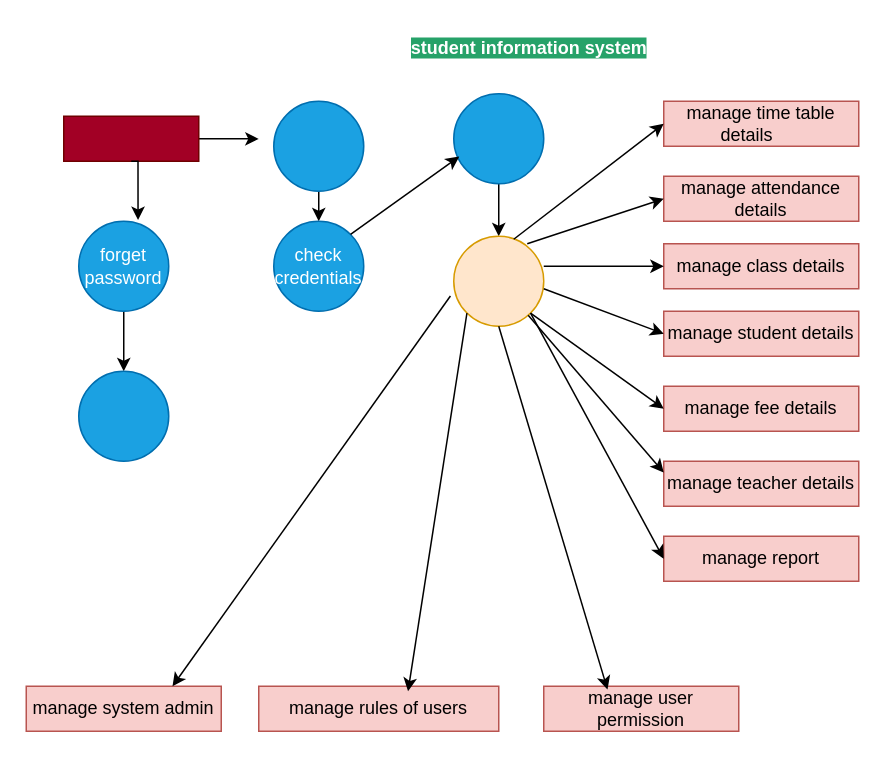
This 885x758 diagram has some shape labels left out. Here are the shapes that lost their labels. From the top down, the box of each, then its label:
(62, 115, 199, 161): admin
(272, 100, 364, 191): login to system
(452, 92, 544, 184): check rules for access
(452, 235, 544, 326): manage modules
(77, 370, 169, 461): send emails to users
